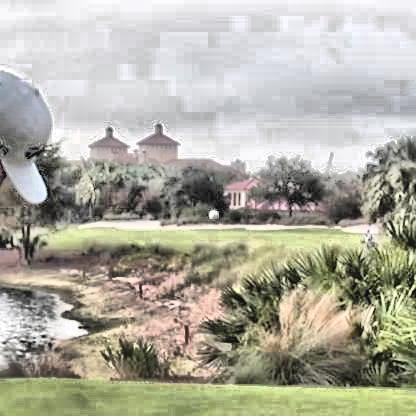golfball: (206, 207, 215, 217)
